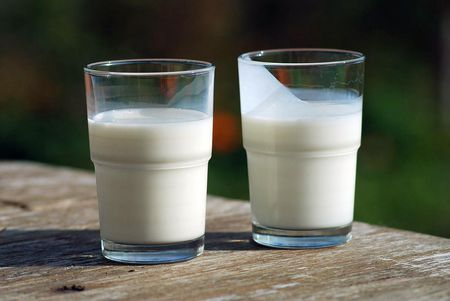glass of milk: (84, 57, 219, 267), (233, 45, 367, 249)
